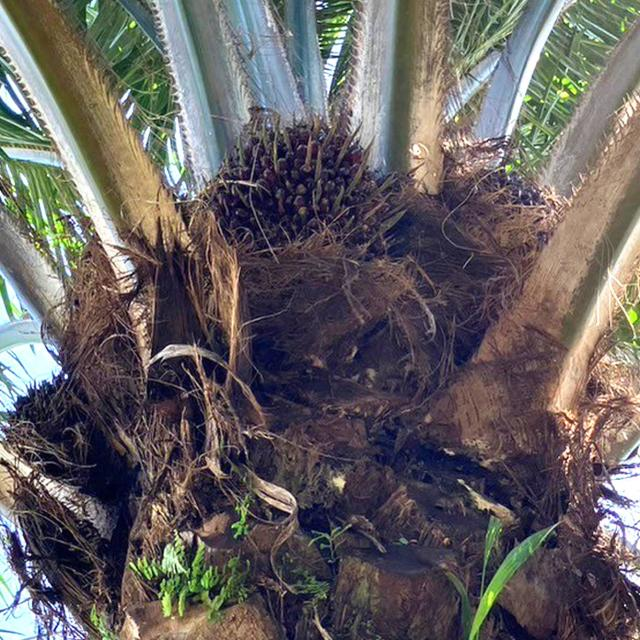ripe: (192, 112, 373, 277)
